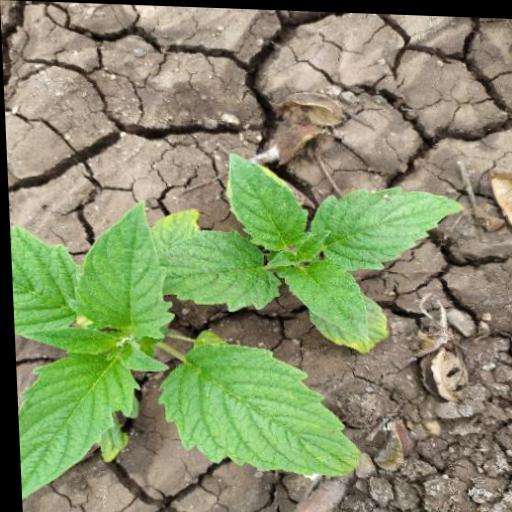crop: (7, 190, 361, 512), (140, 133, 468, 362)
